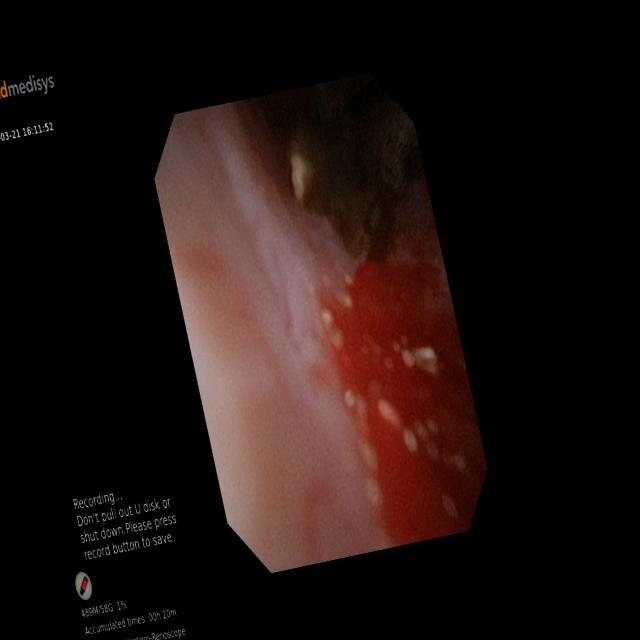stone-new: (290, 74, 423, 258)
